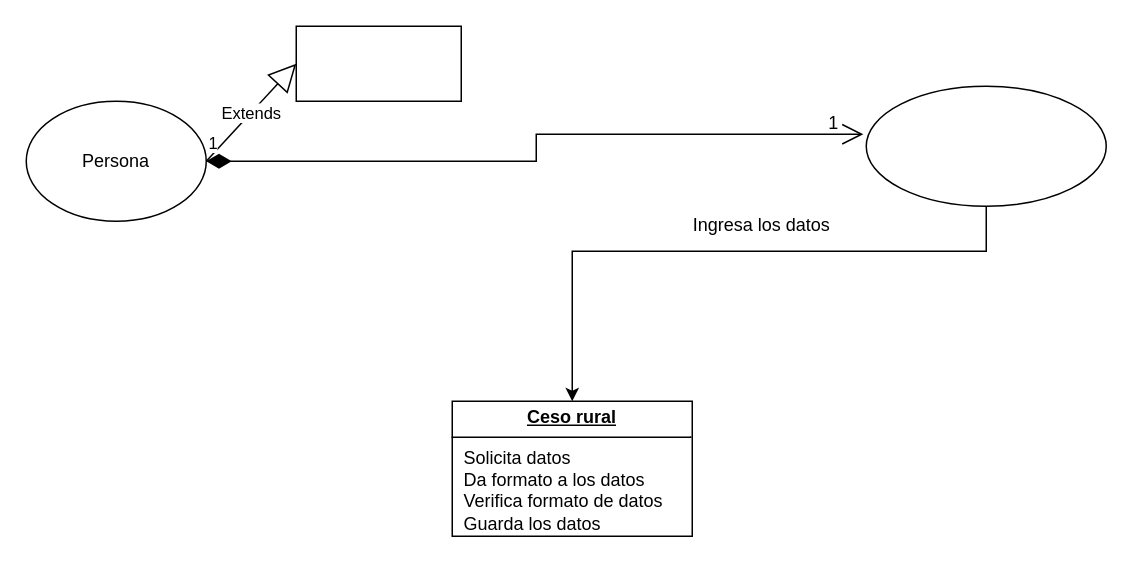
Image size: 1133x563. Some labels were removed from this diagram. The shapes that lost their labels are listed below. From the top down, each one's box as (x1, y1, x2, y2) in pixels, then its label:
(295, 25, 461, 101): Datos personales
(865, 85, 1106, 206): operador de software
